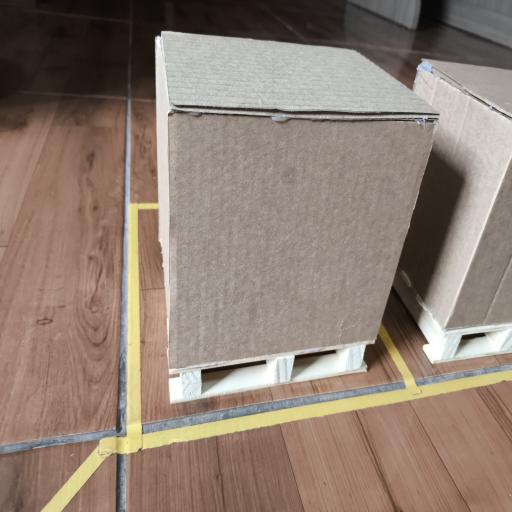pallet: (170, 341, 373, 402), (394, 268, 511, 363)
